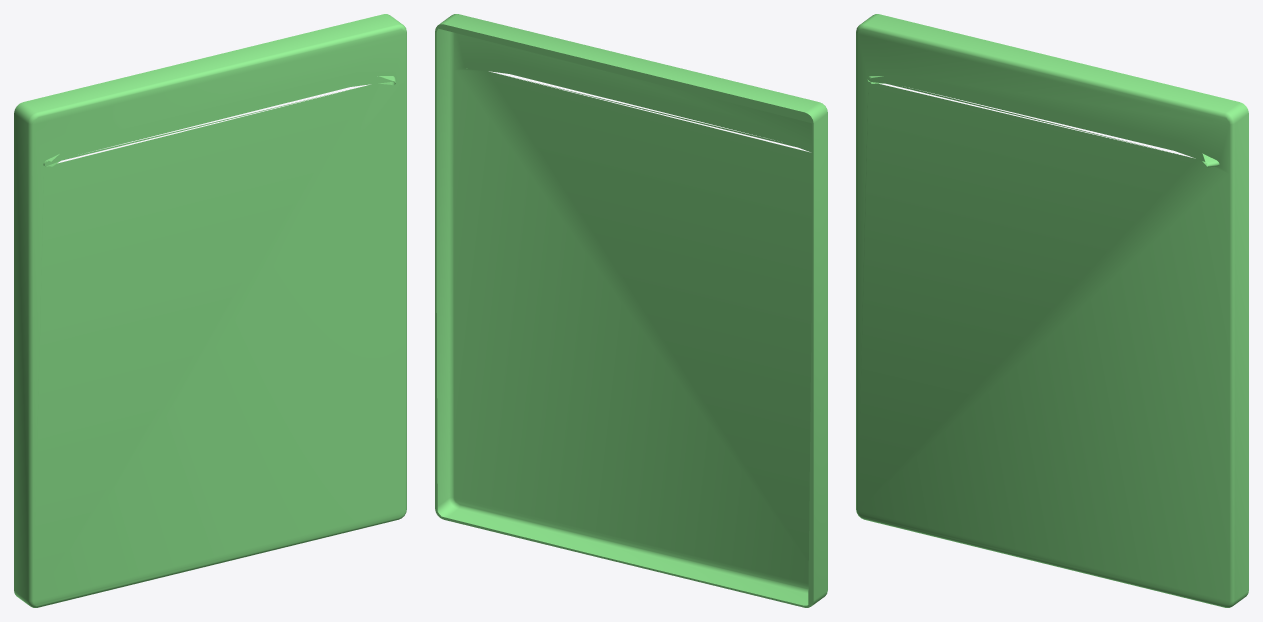
3 renders of one model, left to right at view 1: azimuth 30°, elevation 25°; view 2: azimuth 150°, elevation 25°; view 3: azimuth 330°, elevation 25°, orthographic.
Size of the model in its own units: 1.01 by 1.27 by 0.1039.
